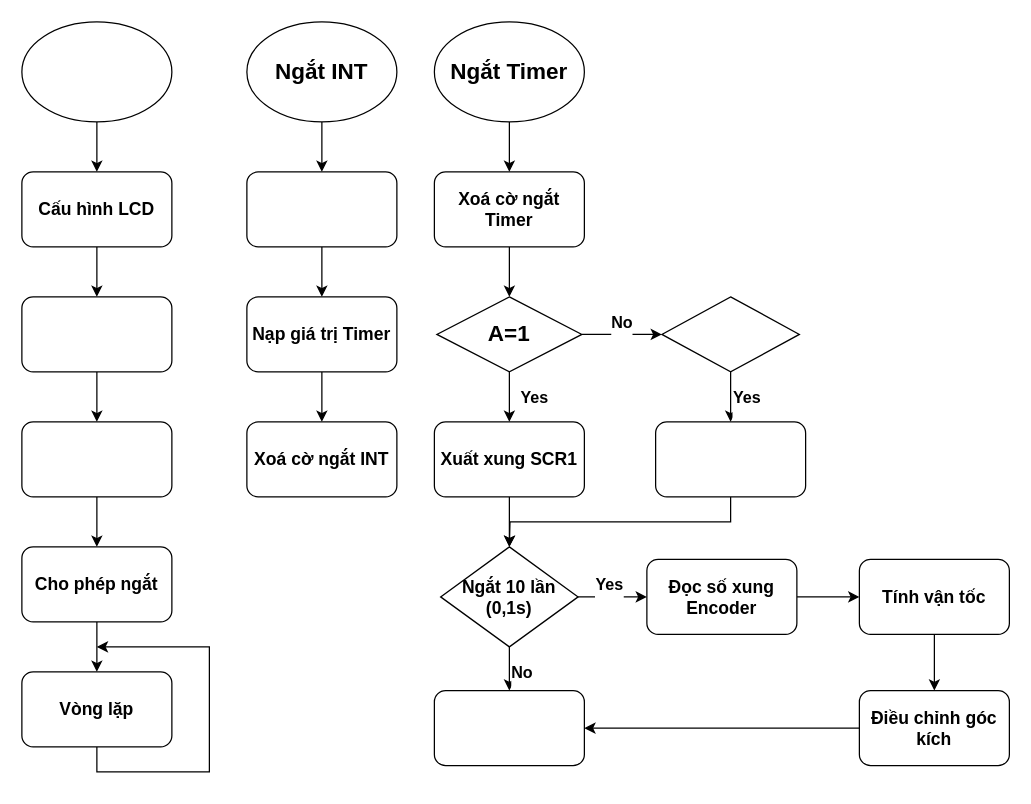
This 1031x804 diagram has some shape labels left out. The shapes that lost their labels are listed below. From the top down, each one's box as (x1, y1, x2, y2) in pixels, then its label:
(21, 21, 172, 122): Bắt đầu
(246, 171, 397, 247): Cho phép ngắt Timer
(21, 296, 172, 372): Cấu hình ngắt Timer Bộ đếm xung
(661, 296, 799, 372): B=1
(21, 421, 172, 497): Cấu hình ngắt INT
(654, 421, 806, 497): Xuất xung SCR2
(433, 689, 584, 766): Kết thúc ngắt
